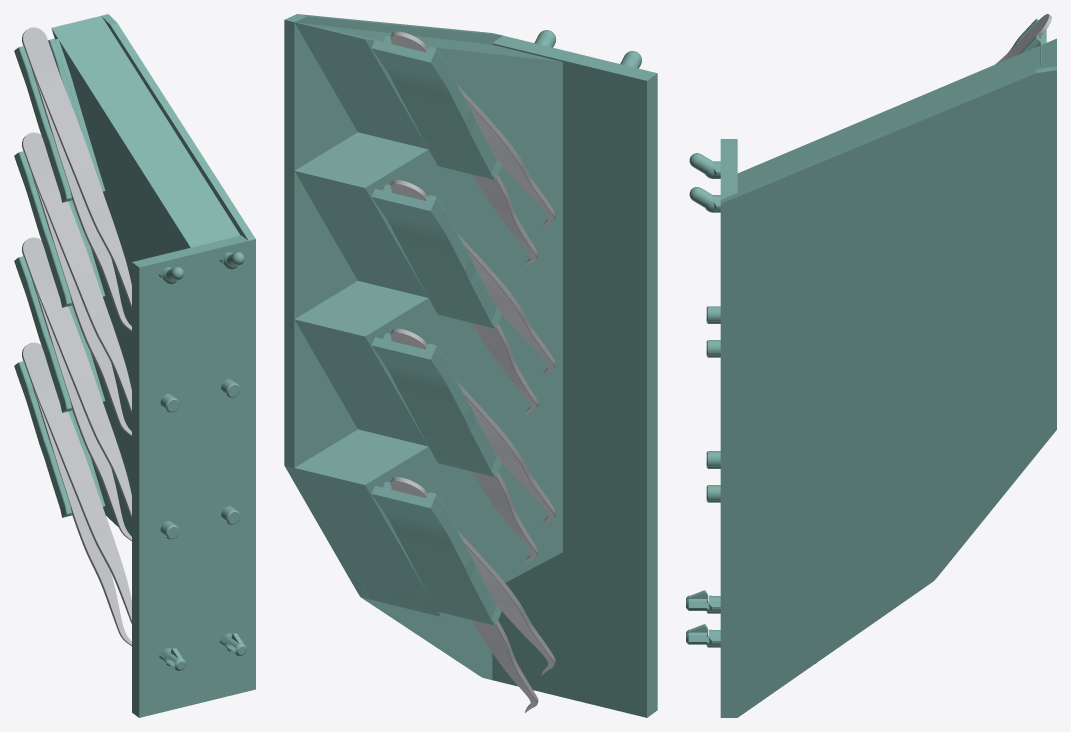
The model's file is part-solder-modules-tweezers__v9__cheek-cradle__fit-pf02c9-latch__loaded.glb.
The picture shows the model from 3 angles, left to right: view 1: azimuth 30°, elevation 25°; view 2: azimuth 150°, elevation 25°; view 3: azimuth 270°, elevation 25°; orthographic projection. The views are drawn at different scales.
Visible parts, largest first — view 1: holder, tool-1, tool-3, tool-4, tool-2; view 2: holder, tool-3, tool-1, tool-4, tool-2; view 3: holder, tool-1.
Part boxes in pixels (box(x1,y1,x2,y2)): holder: box(14, 14, 255, 717); tool-1: box(22, 27, 131, 330); tool-3: box(22, 237, 131, 541); tool-4: box(22, 342, 131, 646); tool-2: box(22, 132, 131, 435); holder: box(284, 14, 657, 717); tool-3: box(390, 328, 555, 564); tool-1: box(390, 31, 555, 267); tool-4: box(390, 477, 555, 712); tool-2: box(390, 180, 555, 415); holder: box(686, 18, 1056, 717); tool-1: box(995, 14, 1051, 64).
Size of the model in its own units: 0.0488 by 0.2304 by 0.1178.
